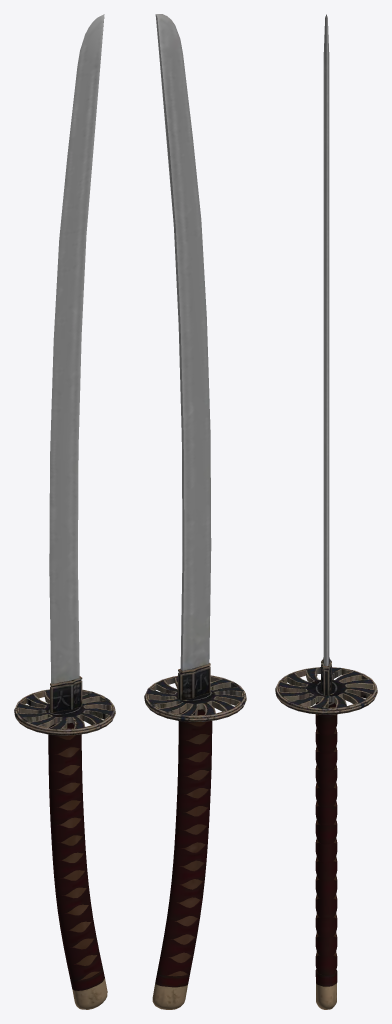
The model's file is antique_katana_01.glb.
3 views of the same model, side by side, from view 1: azimuth 30°, elevation 25°; view 2: azimuth 210°, elevation 25°; view 3: azimuth 270°, elevation 25° (orthographic).
Visible parts, largest first — view 1: antique_katana_01; view 2: antique_katana_01; view 3: antique_katana_01.
Part boxes in pixels (x1,y1,x2,y2): antique_katana_01: [14, 14, 115, 1009]; antique_katana_01: [144, 14, 246, 1009]; antique_katana_01: [275, 14, 377, 1009].
Size of the model in its own units: 0.0934 by 1 by 0.0934.
Materials: 1 (1 with a texture image).
